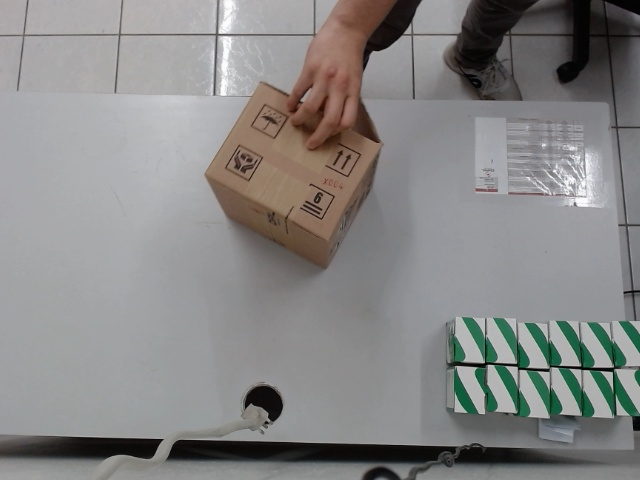caixa_principal: (205, 75, 387, 269)
